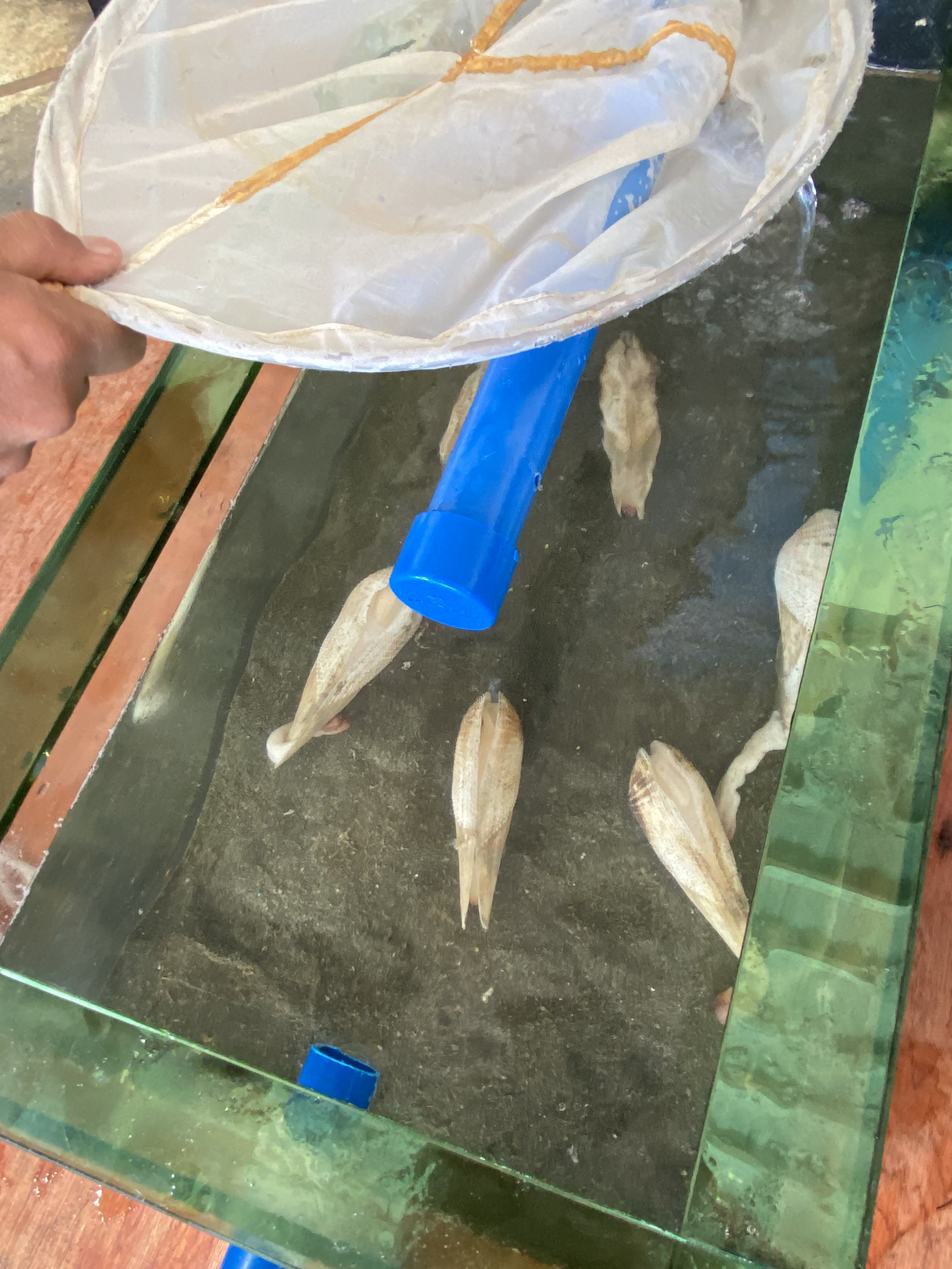At risk: (716, 510, 838, 838), (267, 569, 421, 766), (629, 741, 748, 957), (452, 681, 523, 930), (600, 332, 660, 519)
